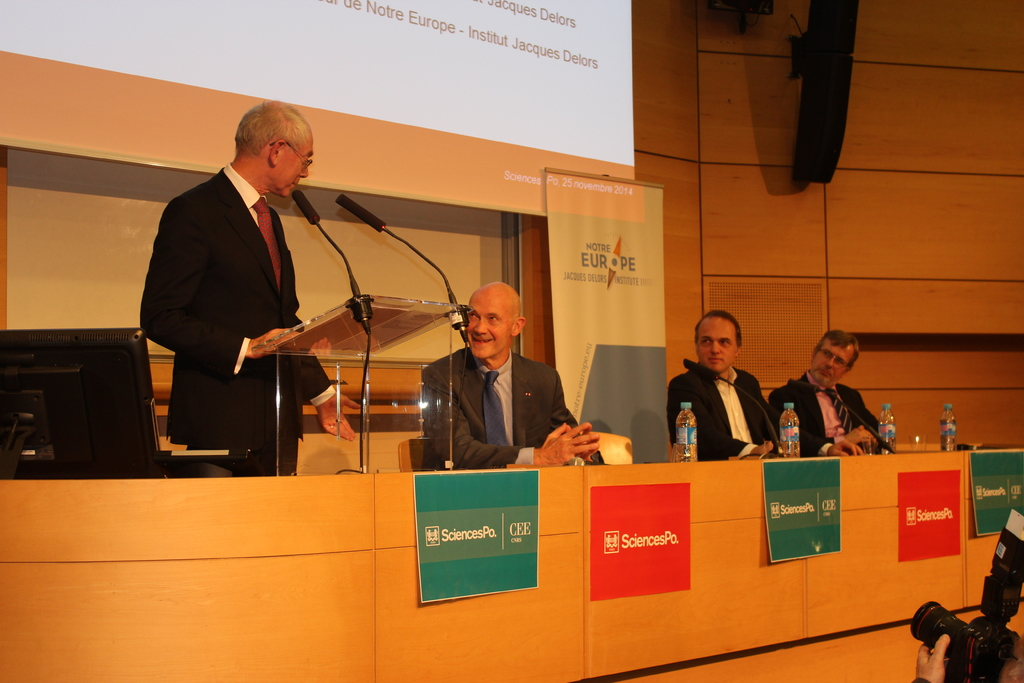Human-face: (260, 128, 312, 199), (460, 288, 507, 362), (694, 312, 743, 379), (806, 333, 857, 396)
